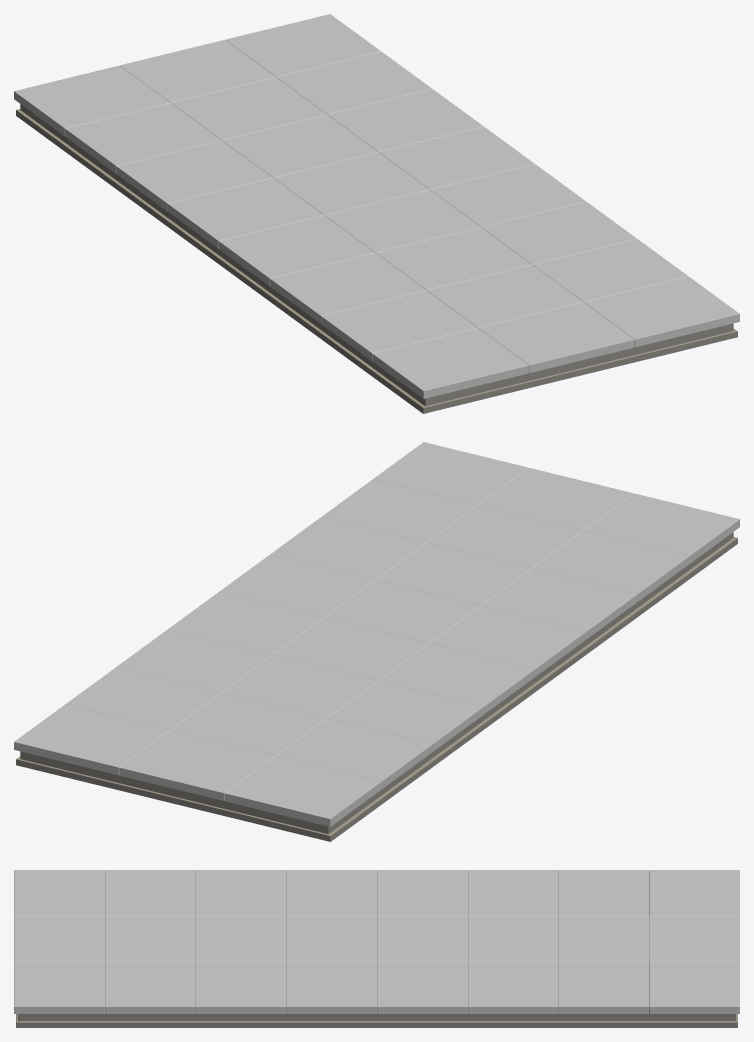
File: 3D_ground_station_1.fbx
3 views of the same model, one above another, from view 1: azimuth 30°, elevation 25°; view 2: azimuth 150°, elevation 25°; view 3: azimuth 270°, elevation 25° (orthographic). The views are drawn at different scales.
Visible parts, largest first — view 1: Ground Top Layer, Ground Base Layer; view 2: Ground Top Layer, Ground Base Layer; view 3: Ground Top Layer, Ground Base Layer.
Boxes of the visible parts, bbox=[...] form: Ground Top Layer: bbox=[14, 14, 739, 398]; Ground Base Layer: bbox=[16, 104, 737, 413]; Ground Top Layer: bbox=[14, 442, 739, 826]; Ground Base Layer: bbox=[16, 532, 737, 841]; Ground Top Layer: bbox=[14, 870, 739, 1013]; Ground Base Layer: bbox=[16, 1013, 737, 1027].
Bounding box in the file's own units: 16.5 × 1.2 × 37.
